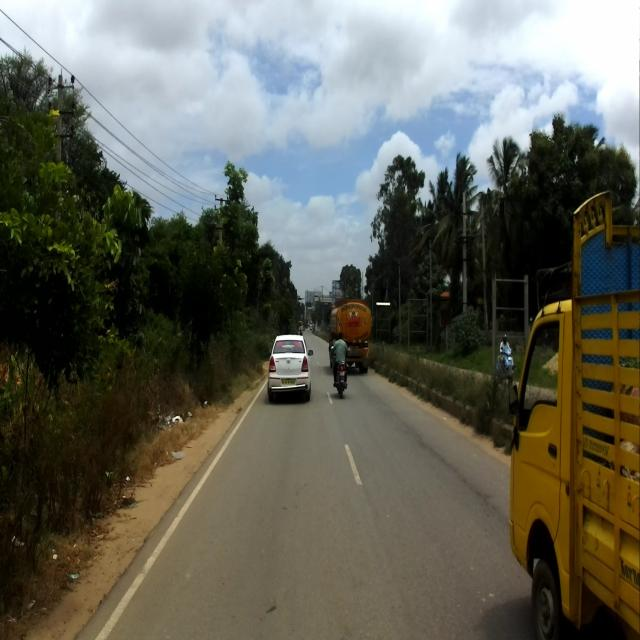car: (267, 333, 313, 404)
truck: (507, 189, 638, 639)
